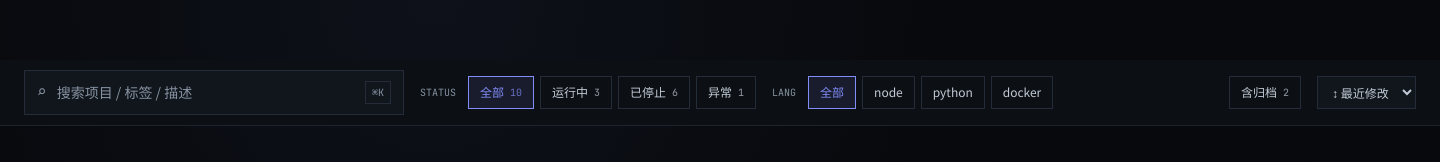
Test: FilterBar › typing in search box updates URL ?q=
Type "hair" into the search field at {"x": 206, "y": 92}, box [57,82,355,103]
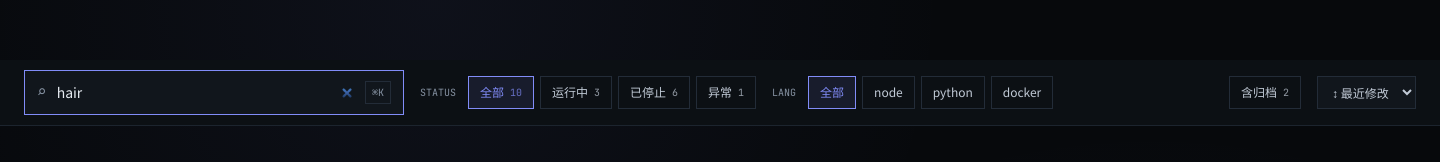
Check: the text with test id "qs" reads "q=hair", box [0,66,48,90]
